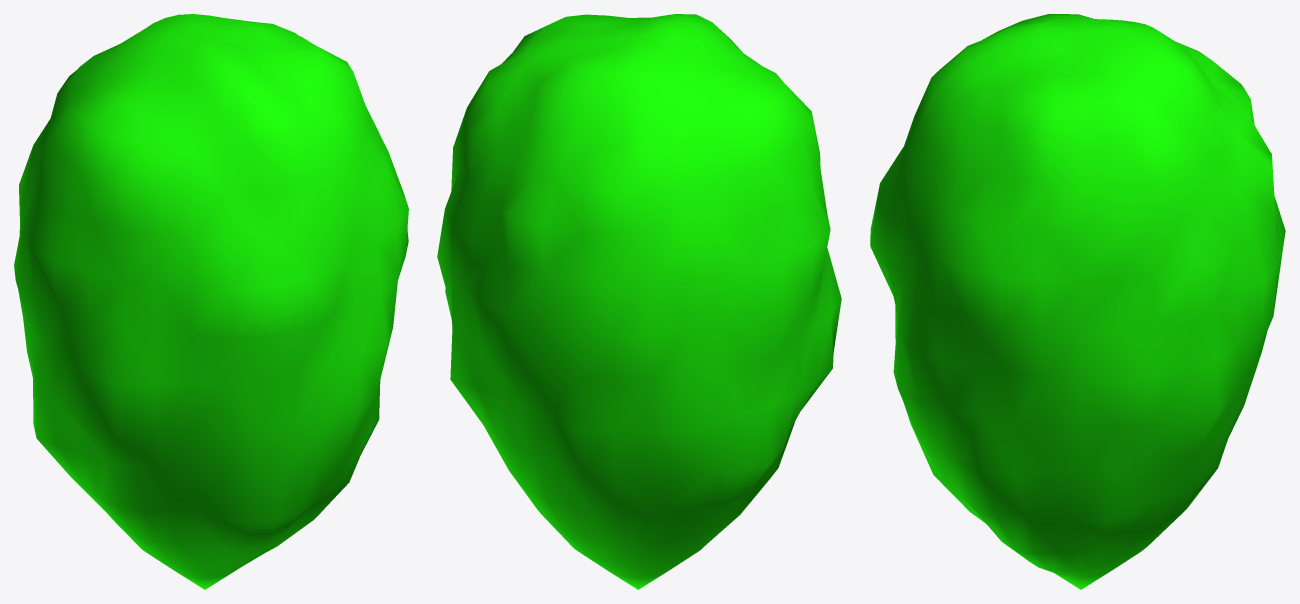
File: dethParticle.obj
3 renders of one model, left to right at view 1: azimuth 30°, elevation 25°; view 2: azimuth 150°, elevation 25°; view 3: azimuth 270°, elevation 25°, orthographic.
Parts seen in each view (by area): view 1: 球.001; view 2: 球.001; view 3: 球.001.
Part boxes in pixels (x1,y1,x2,y2): 球.001: [14, 14, 408, 589]; 球.001: [437, 14, 841, 589]; 球.001: [870, 14, 1285, 589].
Bounding box in the file's own units: 0.9531 × 1.45 × 0.9774.
1 material, 1 textured.
